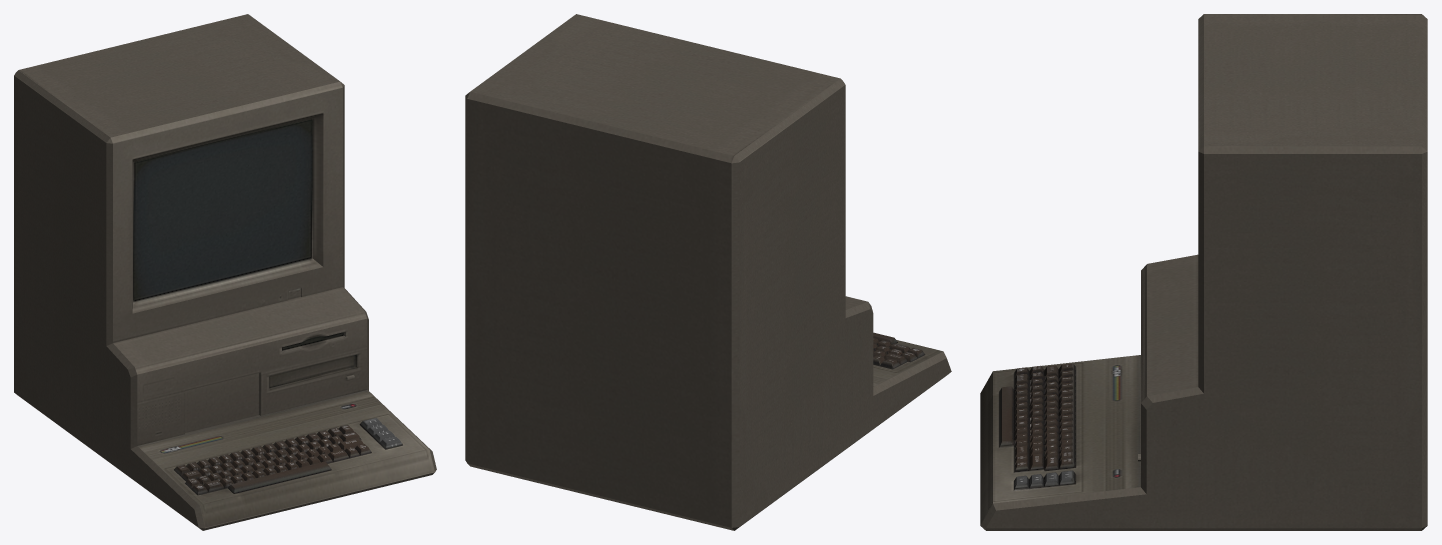
The model's file is computer_1.obj.
The picture shows the model from 3 angles, left to right: view 1: azimuth 30°, elevation 25°; view 2: azimuth 150°, elevation 25°; view 3: azimuth 270°, elevation 25°; orthographic projection. The views are drawn at different scales.
Parts seen in each view (by area): view 1: computer_1; view 2: computer_1; view 3: computer_1.
Part boxes in pixels (x1,y1,x2,y2): computer_1: (14, 14, 436, 530); computer_1: (465, 14, 951, 530); computer_1: (980, 14, 1427, 530).
Bounding box in the file's own units: 0.5946 × 0.777 × 0.819.
